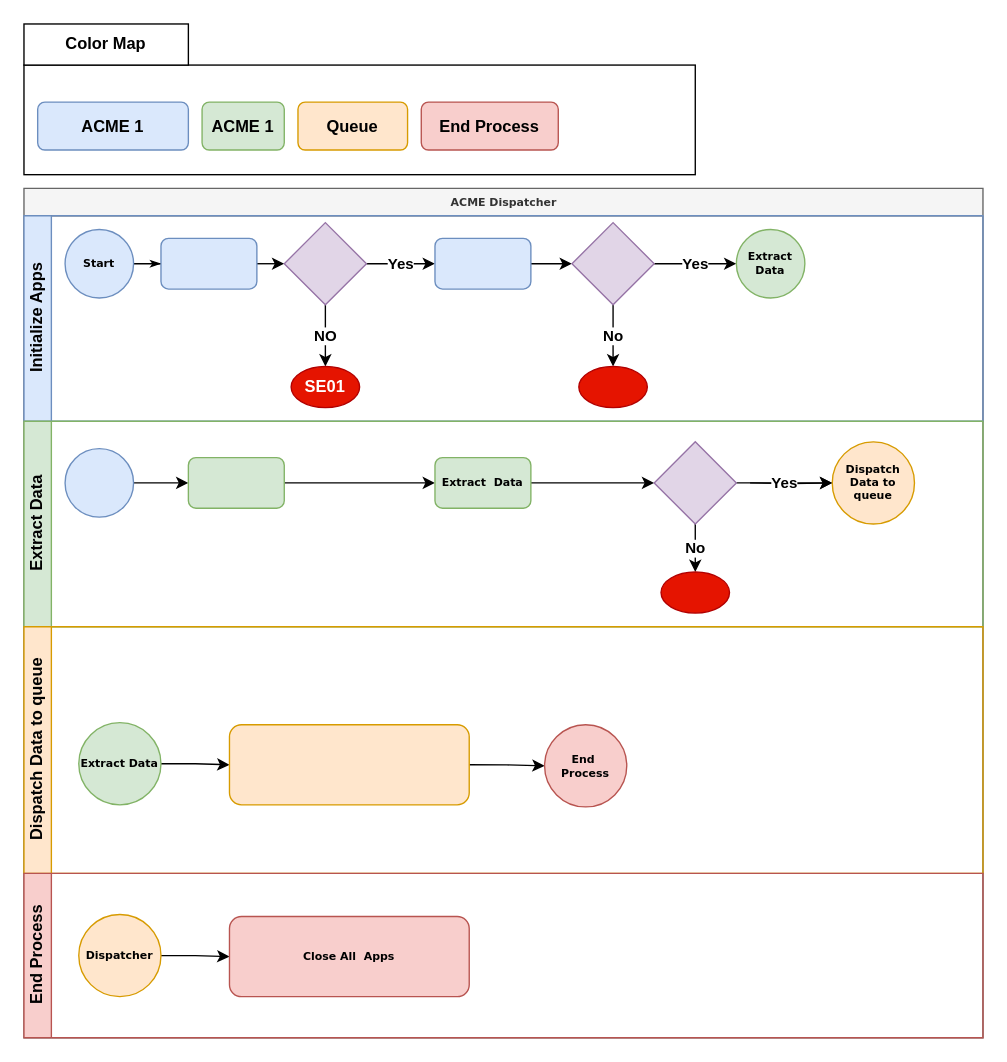
This 1007x1062 diagram has some shape labels left out. Each missing label, with the centre of its shape:
"Add Data to WI1 Queue" goes at (x=348, y=764).
"App Launched Success" goes at (x=324, y=263).
"BE01" goes at (x=612, y=386).
"BE02" goes at (x=695, y=592).
"Check for WI1 Data" goes at (x=694, y=482).
"Click Work Items" goes at (x=235, y=482).
"Initialize Appd" goes at (x=99, y=482).
"Launch ACME System 1" goes at (x=208, y=263).
"Login ACME system 1" goes at (x=482, y=263).
"Login Success" goes at (x=612, y=263).
